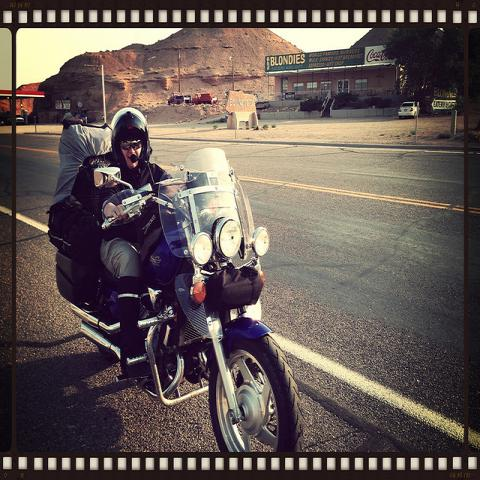car: (398, 101, 420, 119), (62, 116, 83, 124)
motorcycle: (98, 170, 305, 456)
truck: (399, 100, 420, 120), (191, 92, 219, 105), (168, 91, 185, 107)
